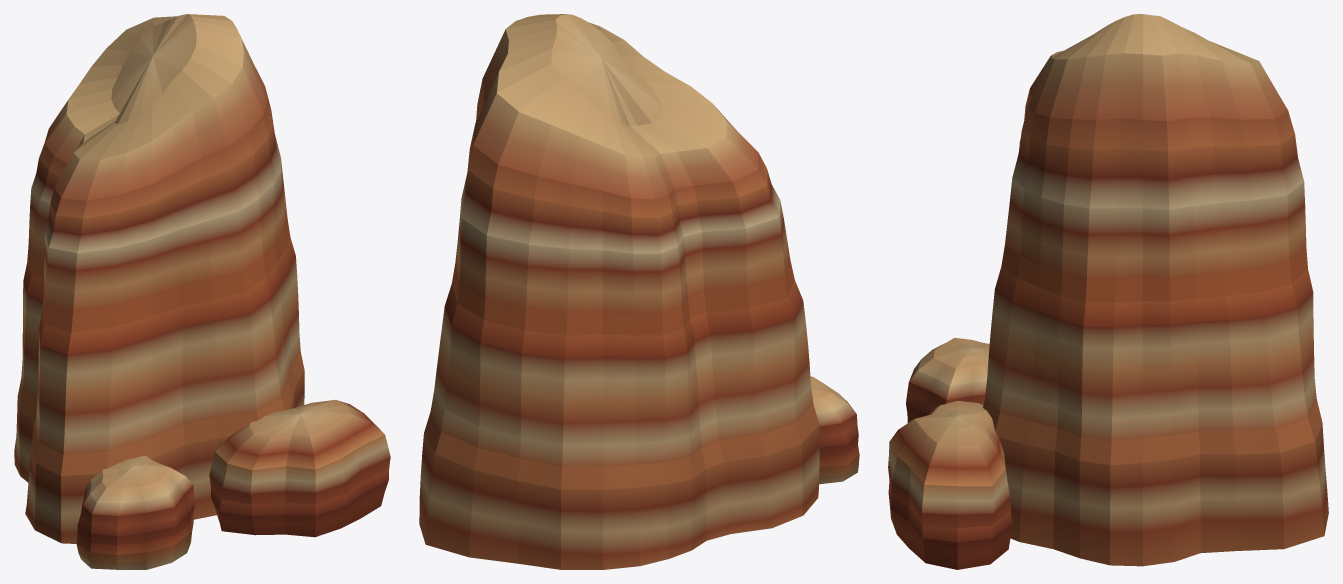
The model's file is boulder_b.glb.
The picture shows the model from 3 angles, left to right: view 1: azimuth 30°, elevation 25°; view 2: azimuth 150°, elevation 25°; view 3: azimuth 270°, elevation 25°; orthographic projection. The views are drawn at different scales.
Visible parts, largest first — view 1: boulder_b; view 2: boulder_b; view 3: boulder_b.
Boxes of the visible parts, bbox=[...] form: boulder_b: bbox=[14, 14, 390, 569]; boulder_b: bbox=[419, 14, 859, 569]; boulder_b: bbox=[888, 14, 1328, 569].
Bounding box in the file's own units: 2.18 × 3.08 × 2.47.
